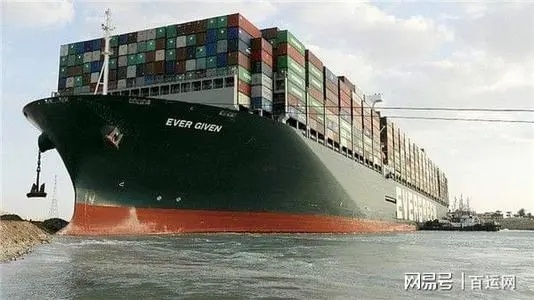Cargoship: (10, 12, 456, 244)
otherboat: (415, 209, 504, 232)
